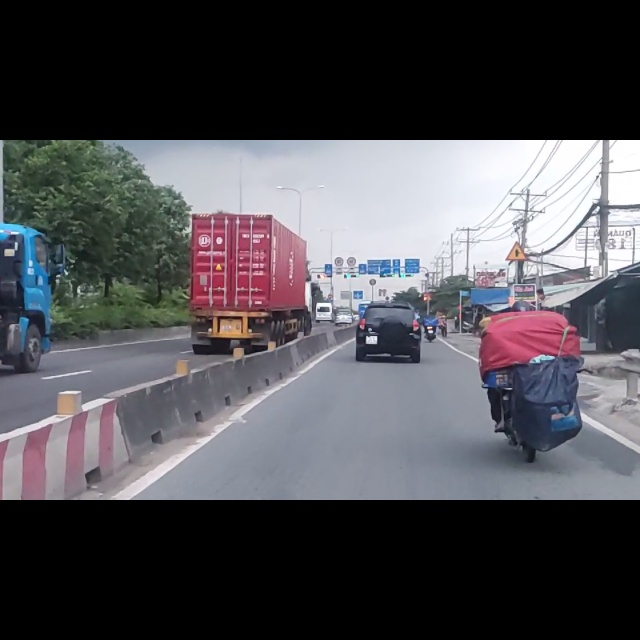bien_chi_dan: (505, 180, 529, 216)
